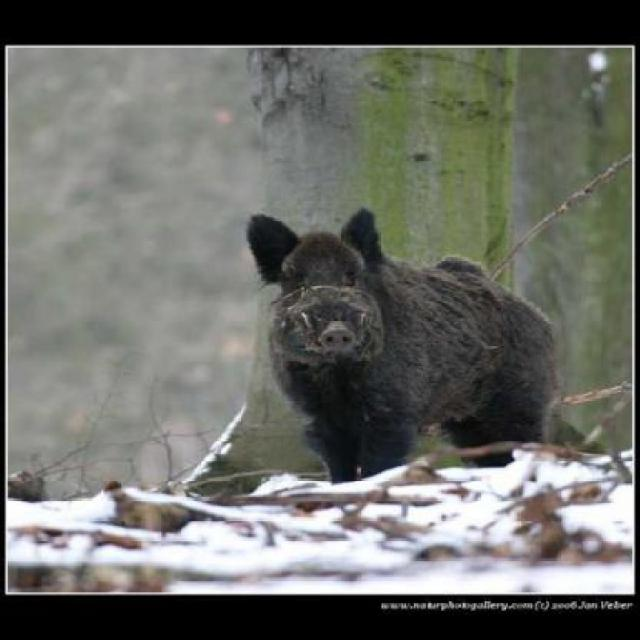pig: (235, 152, 571, 493)
